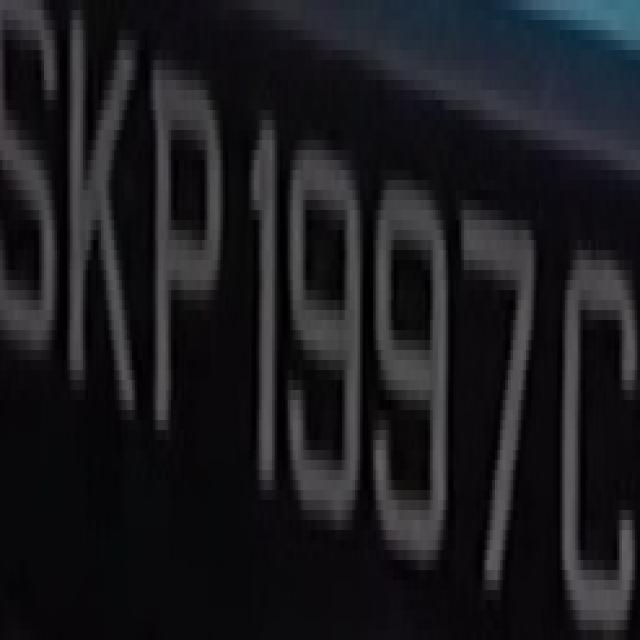1: (256, 50, 282, 530)
7: (456, 170, 544, 630)
9: (371, 130, 454, 590), (282, 110, 363, 550)
C: (2, 4, 3, 10)
K: (62, 0, 127, 430)
P: (148, 40, 223, 420)
S: (0, 0, 60, 400)
